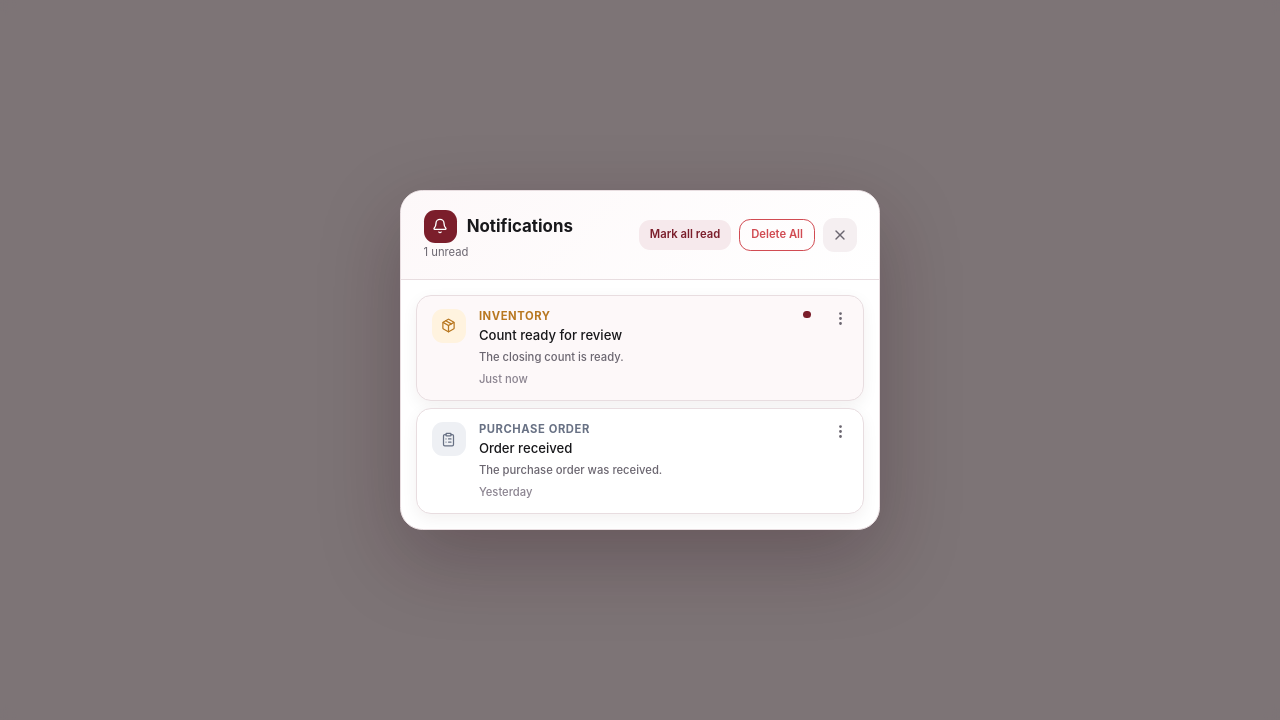
Scenario: notification deletion controls › keeps the notification and shows feedback when deletion fails
What coordinates should you click on to do the following:
click the button named "Actions for Count ready for review"
I would click on:
 (840, 318)
Its box is [826,304,856,334].
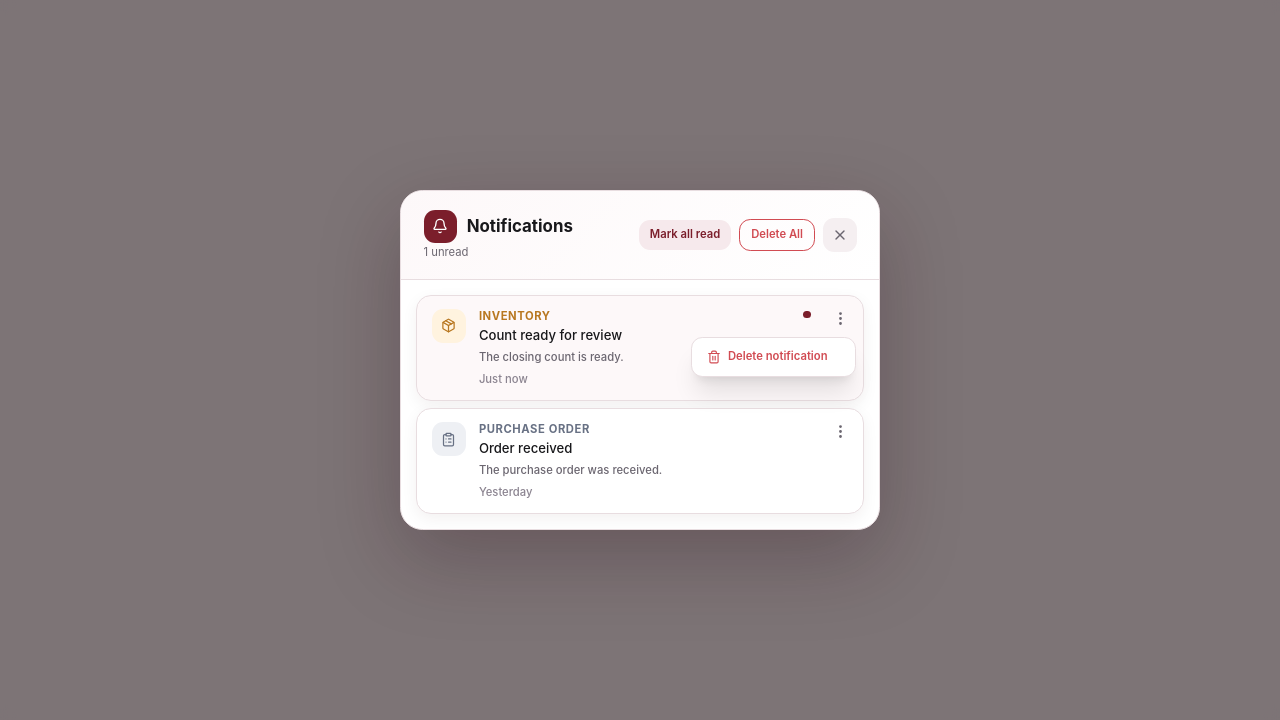
What coordinates should you click on to do the following:
click the button "Delete notification"
I would click on:
 (773, 357)
Its box is [695,342,851,372].
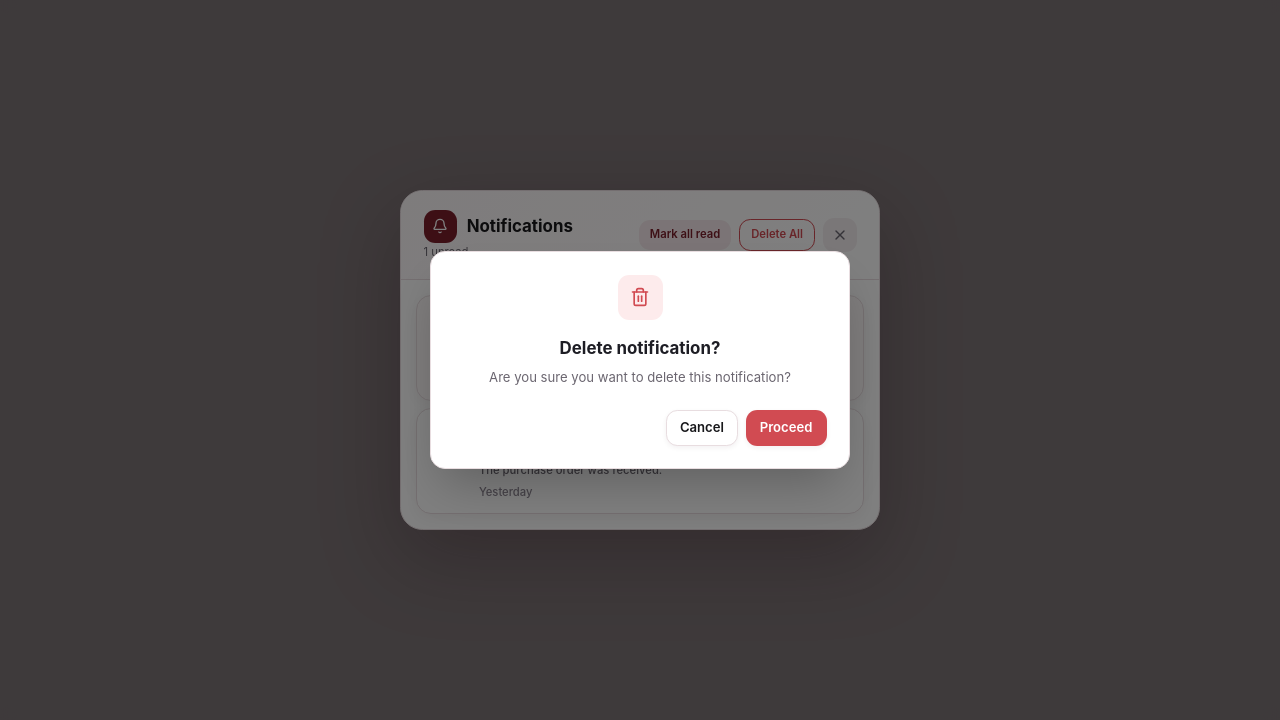
What coordinates should you click on to do the following:
click the button "Proceed"
I would click on:
 (786, 428)
Its box is [746,410,826,446].
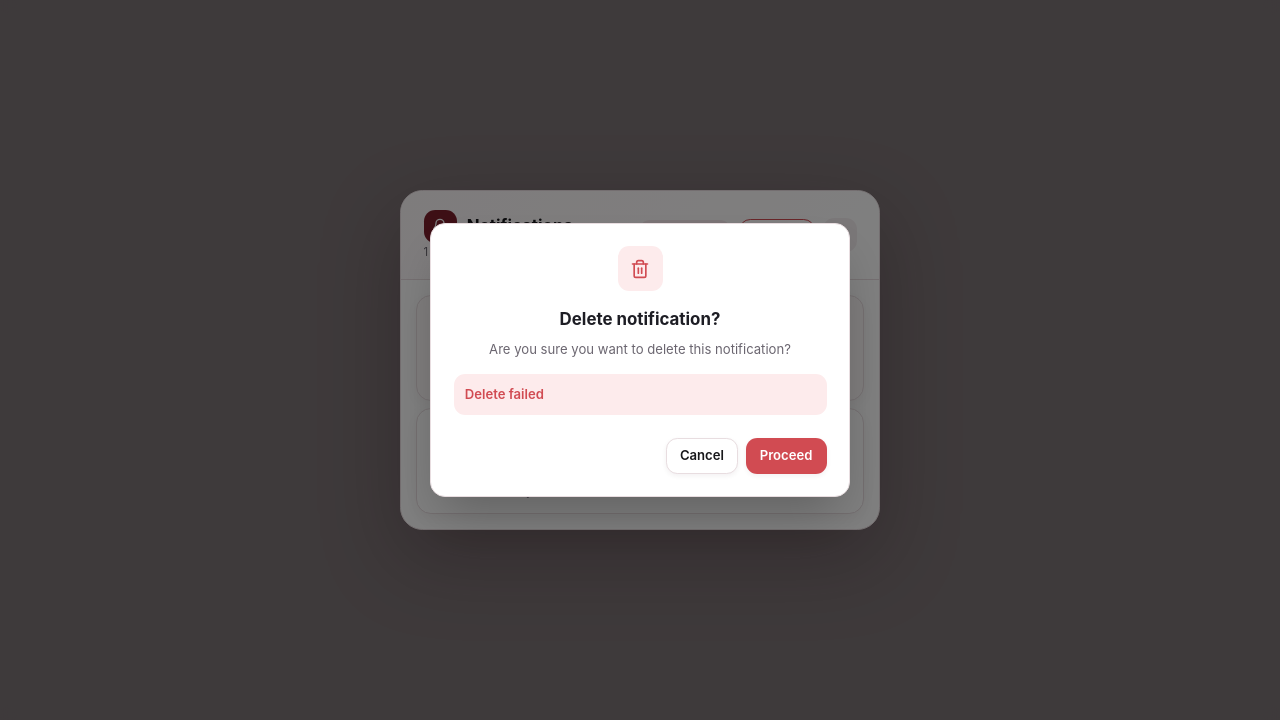
Expected: the text "Count ready for review" is shown, [479,327,622,343]
Expected: the text "Delete failed" is shown, [454,374,826,415]
